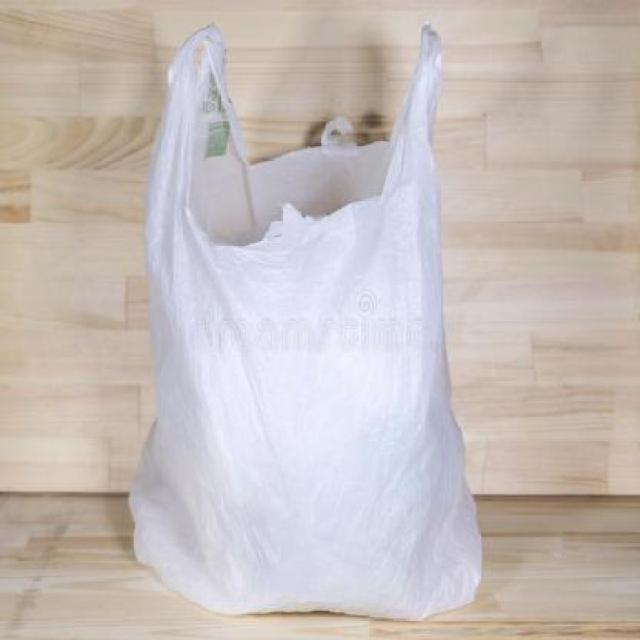plastic bag: (125, 31, 500, 624)
